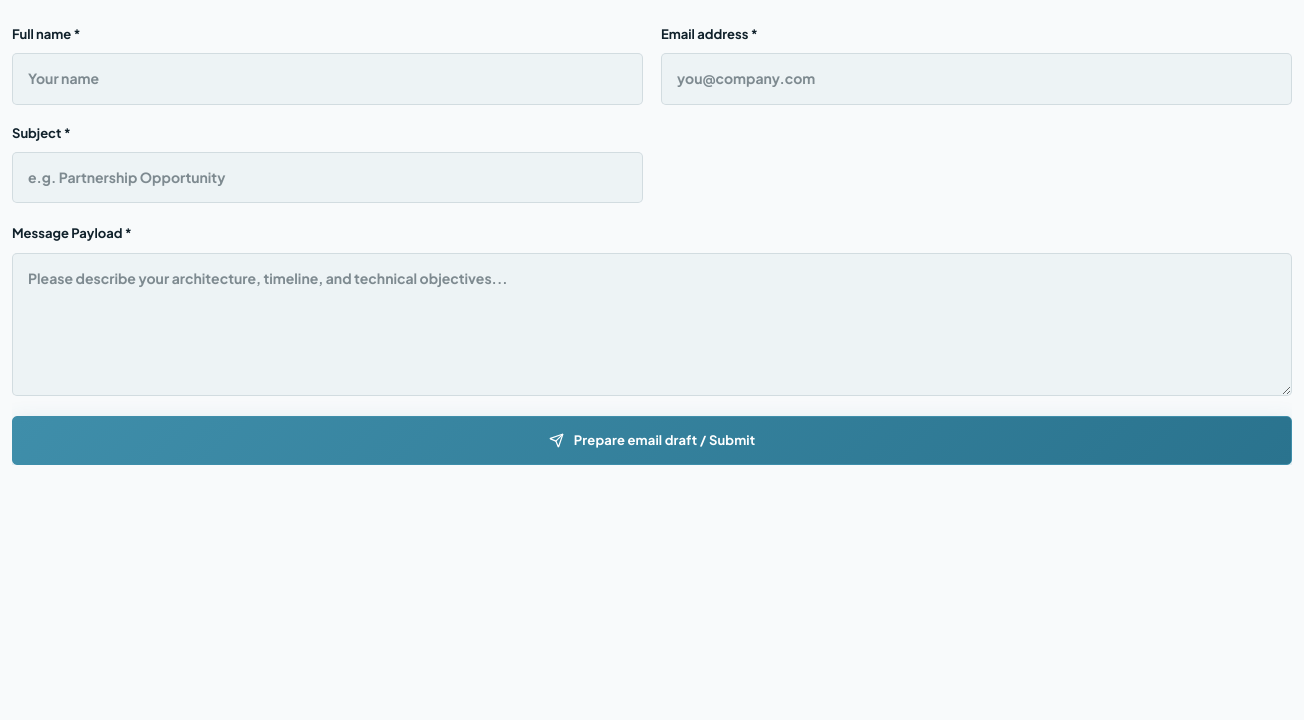
Test: Enquiry & Contact Form Validation › validates invalid email syntax
The image size is (1304, 720).
Type "Alex Tech" into the field labelled "Full name *" at (328, 79), box [12,53,643,104]
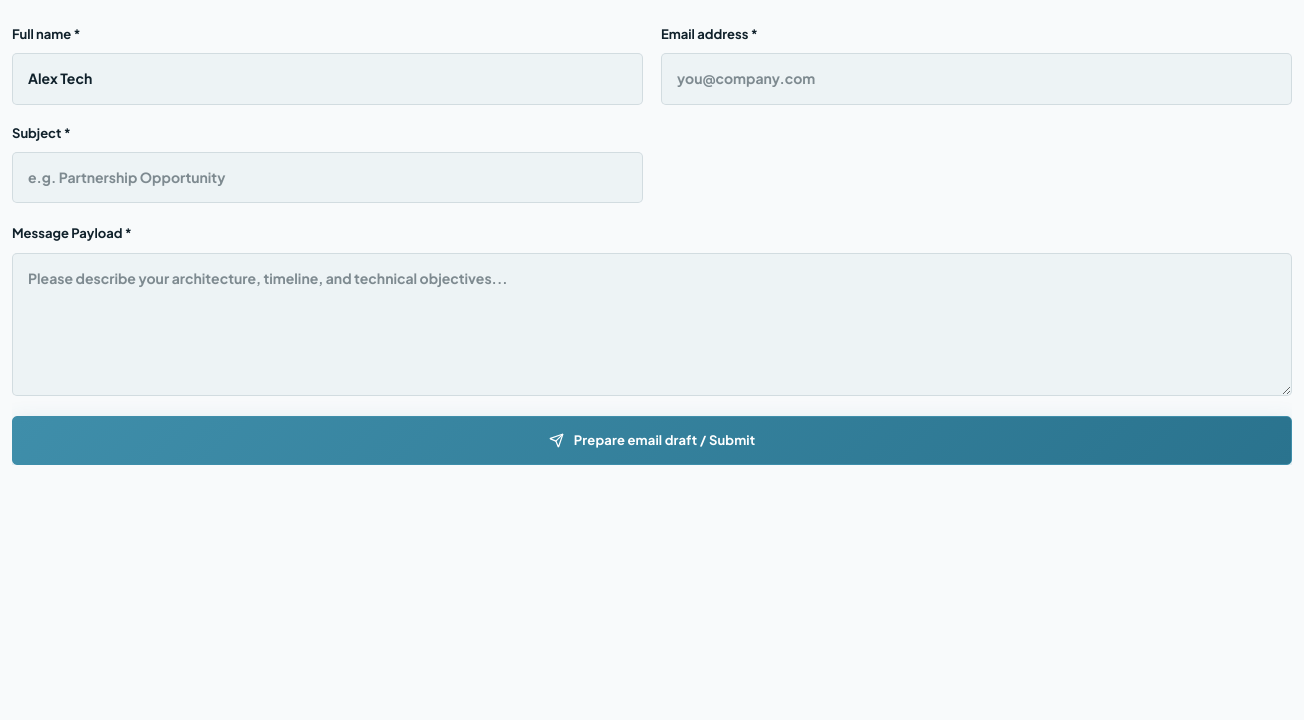
Type "invalid-email" into the field labelled "Email address *" at (976, 79), box [661,53,1292,104]
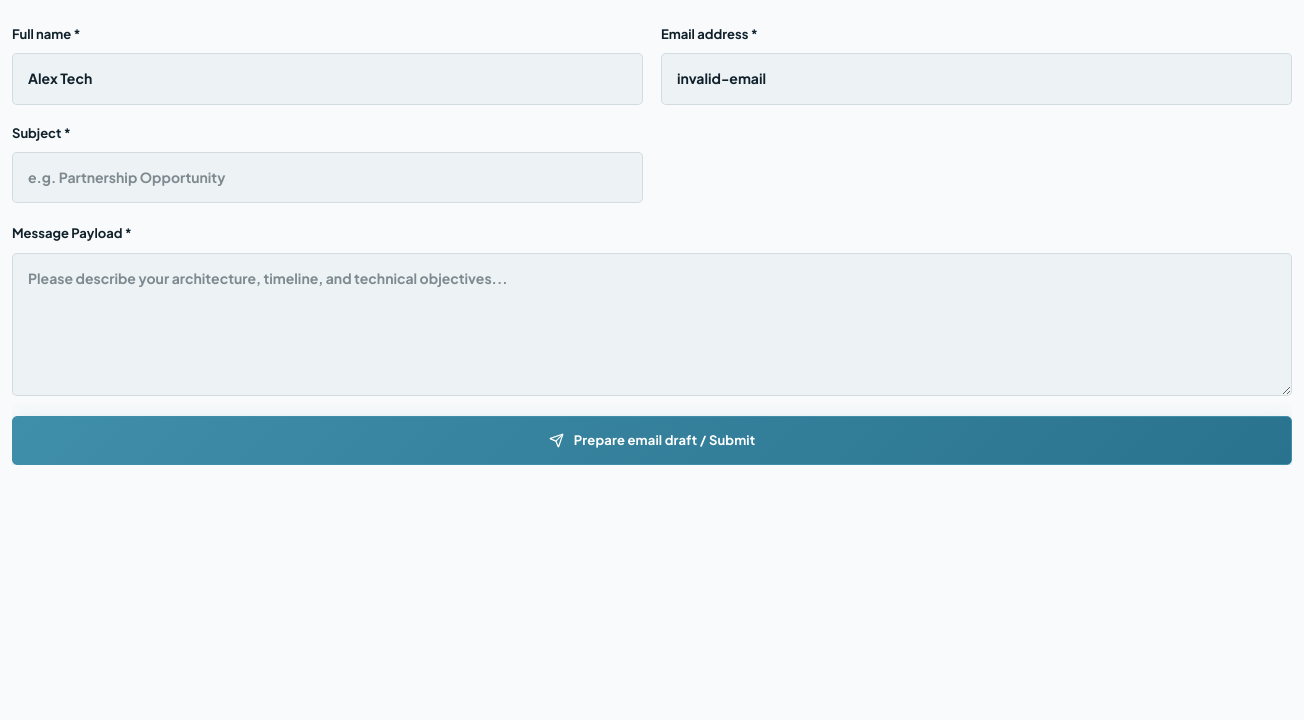
Click the button "Prepare email draft / Submit" at (652, 441), box [12,416,1292,465]
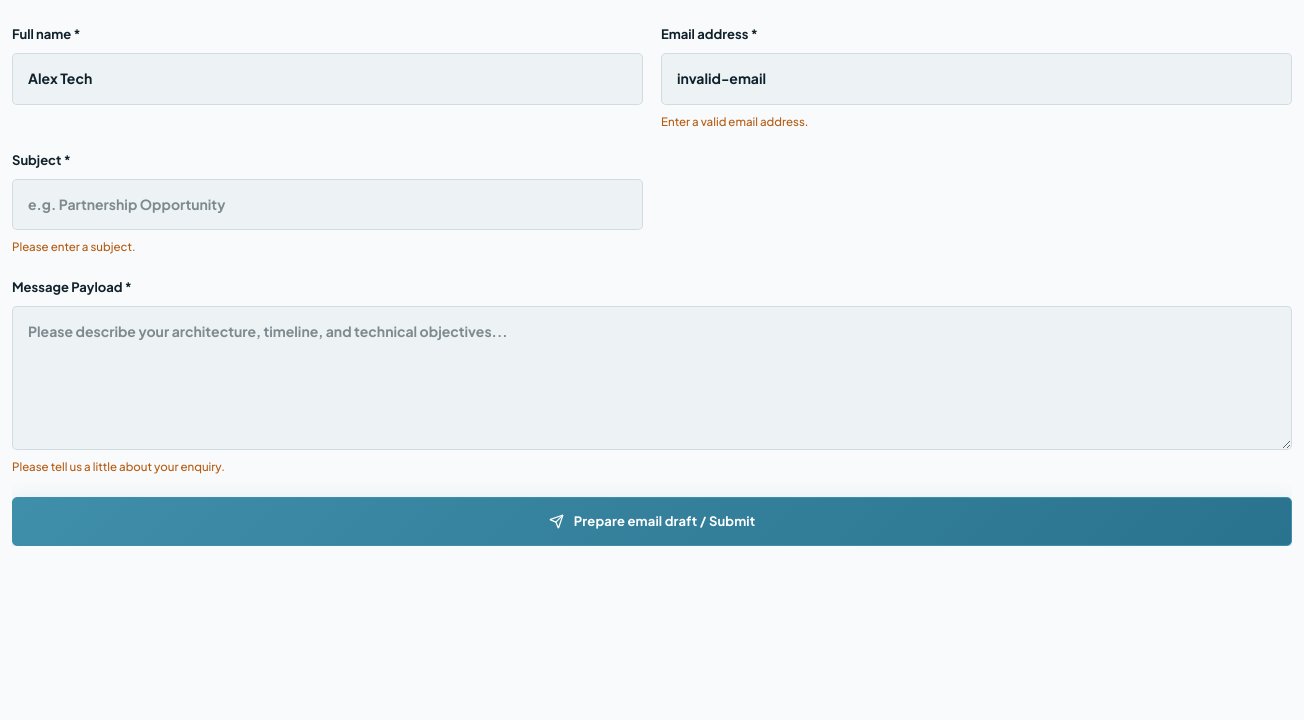
Expected: the text "Enter a valid email address." is shown, [661,114,808,128]
